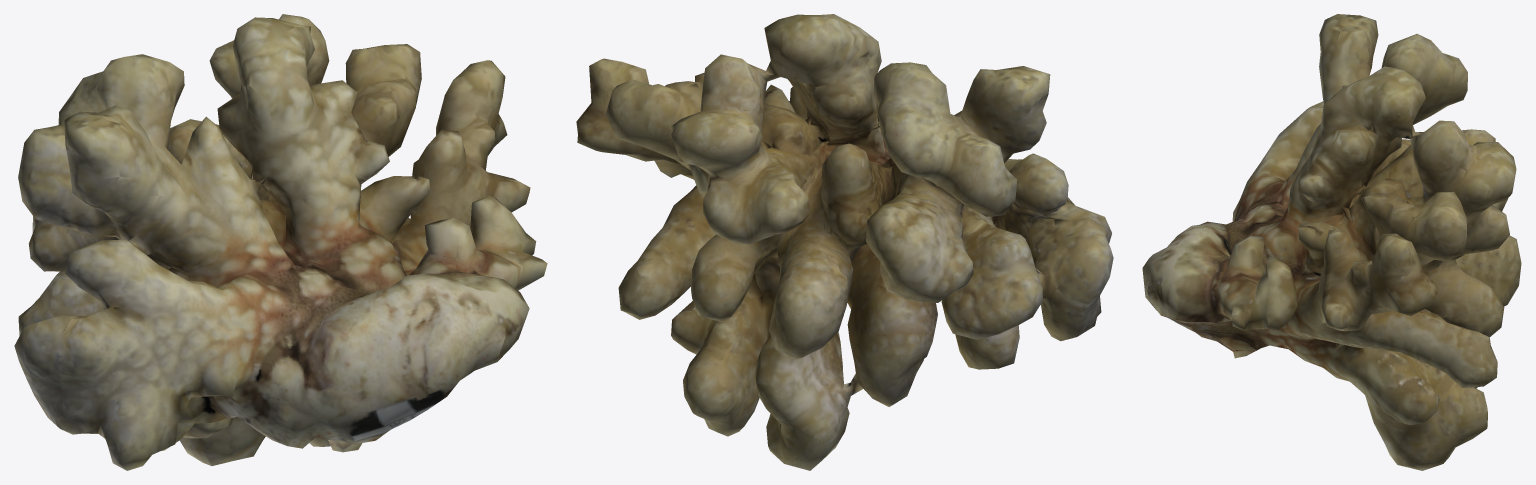
Rendered from CoralSkeleton_5000.fbx.
3 renders of one model, left to right at view 1: azimuth 30°, elevation 25°; view 2: azimuth 150°, elevation 25°; view 3: azimuth 270°, elevation 25°, orthographic. The views are drawn at different scales.
Parts seen in each view (by area): view 1: CoralSkeleton_5000; view 2: CoralSkeleton_5000; view 3: CoralSkeleton_5000.
Boxes of the visible parts, left/top/right/bottom form: CoralSkeleton_5000: left=14, top=14, right=547, bottom=470; CoralSkeleton_5000: left=576, top=14, right=1113, bottom=470; CoralSkeleton_5000: left=1142, top=14, right=1521, bottom=470.
Size of the model in its own units: 1488 by 1227 by 1142.
1 material, 1 textured.
